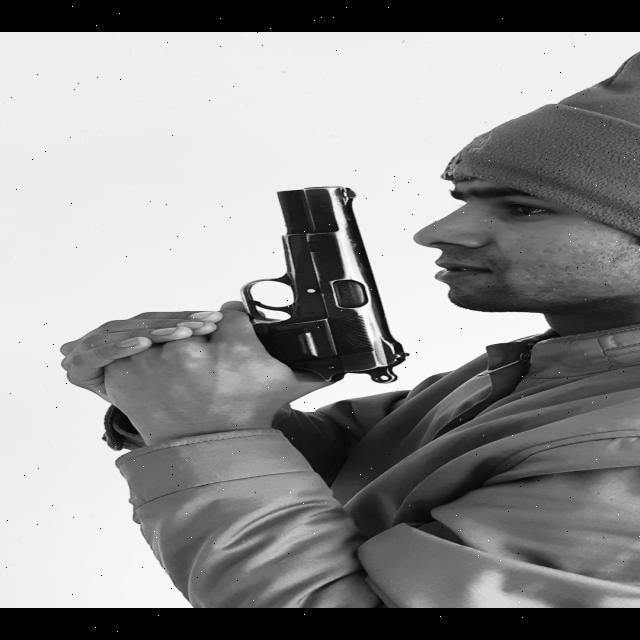gun: (73, 180, 427, 418)
